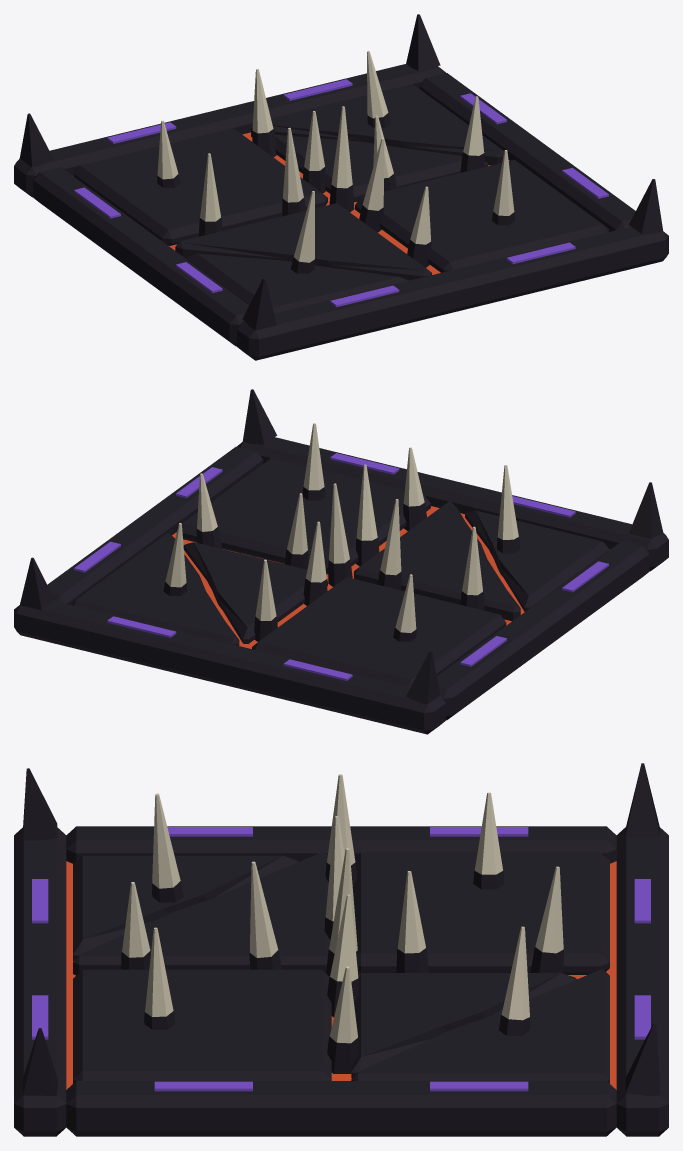
File: spike_trap.obj
3 views of the same model, one above another, from view 1: azimuth 30°, elevation 25°; view 2: azimuth 150°, elevation 25°; view 3: azimuth 270°, elevation 25° (orthographic). The views are drawn at different scales.
Visible parts, largest first — view 1: spike_trap; view 2: spike_trap; view 3: spike_trap.
Boxes of the visible parts, <box> form: spike_trap: <box>14,14,668,360</box>; spike_trap: <box>14,389,668,734</box>; spike_trap: <box>14,763,668,1136</box>.
Bounding box in the file's own units: 2 × 0.5258 × 2.
